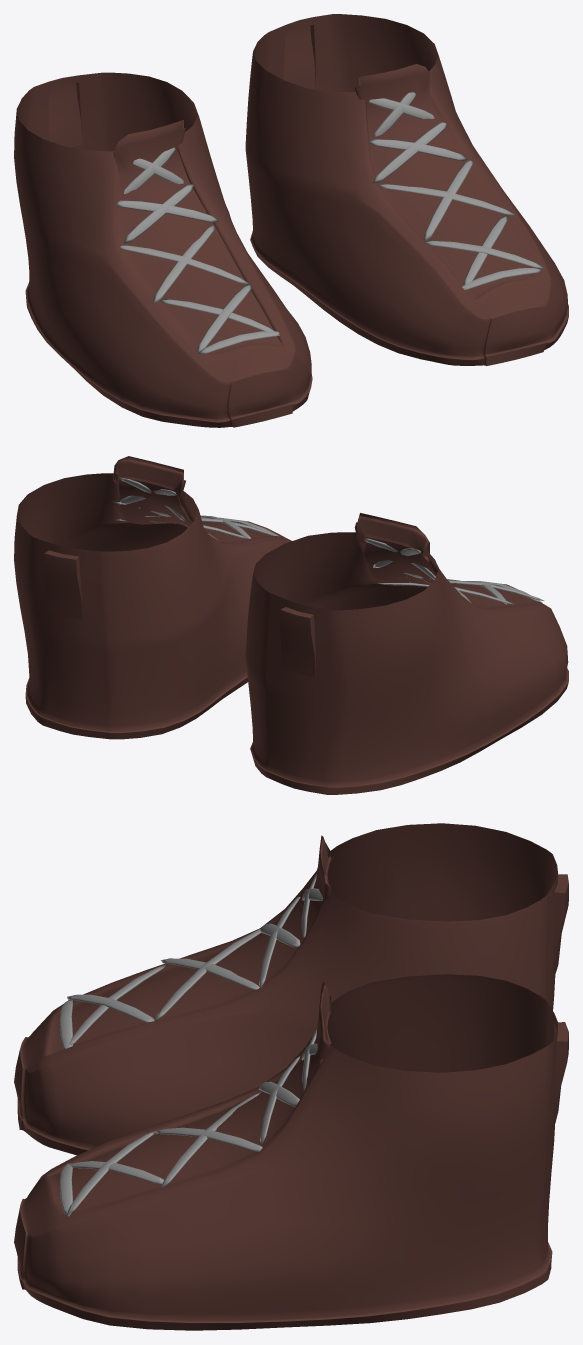
The model's file is shoes base.fbx.
3 views of the same model, one above another, from view 1: azimuth 30°, elevation 25°; view 2: azimuth 150°, elevation 25°; view 3: azimuth 270°, elevation 25° (orthographic). The views are drawn at different scales.
Parts seen in each view (by area): view 1: polySurface113, pCube16; view 2: polySurface113, pCube16; view 3: polySurface113, pCube16.
Part boxes in pixels (x1=…): polySurface113: x1=14, y1=14, x2=568, y2=427; pCube16: x1=117, y1=92, x2=544, y2=353; polySurface113: x1=14, y1=456, x2=568, y2=794; pCube16: x1=112, y1=477, x2=543, y2=604; polySurface113: x1=14, y1=823, x2=568, y2=1330; pCube16: x1=59, y1=873, x2=322, y2=1216.
Size of the model in its own units: 36.56 by 16.31 by 30.66.
